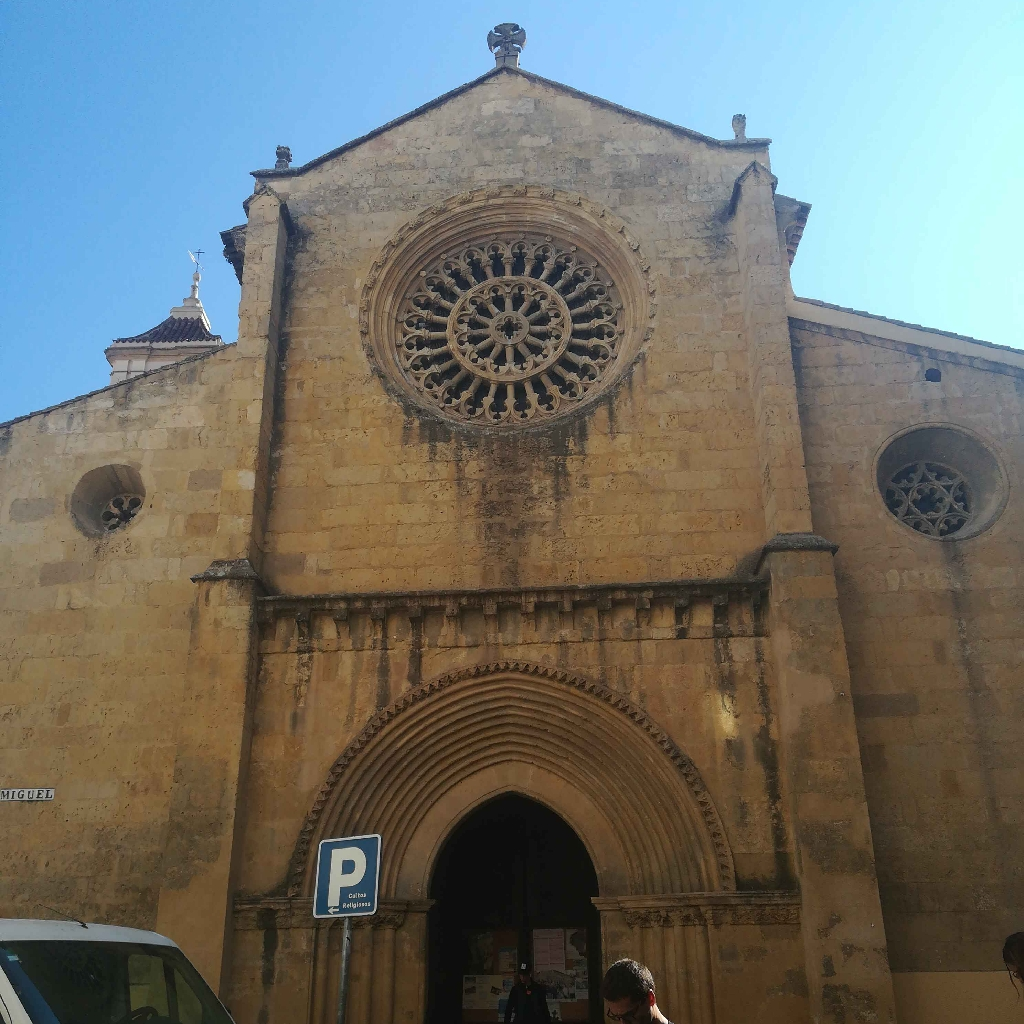arco-apuntado: (413, 779, 603, 919)
